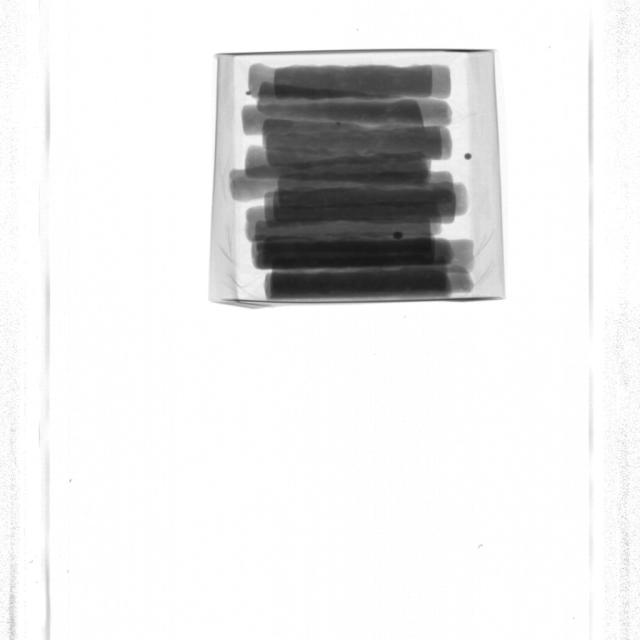ym: (394, 232, 404, 241), (466, 154, 473, 160), (247, 91, 252, 97), (336, 123, 341, 127)
